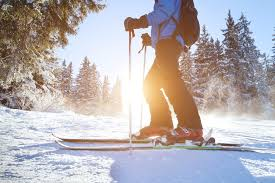skis: (50, 133, 256, 154)
